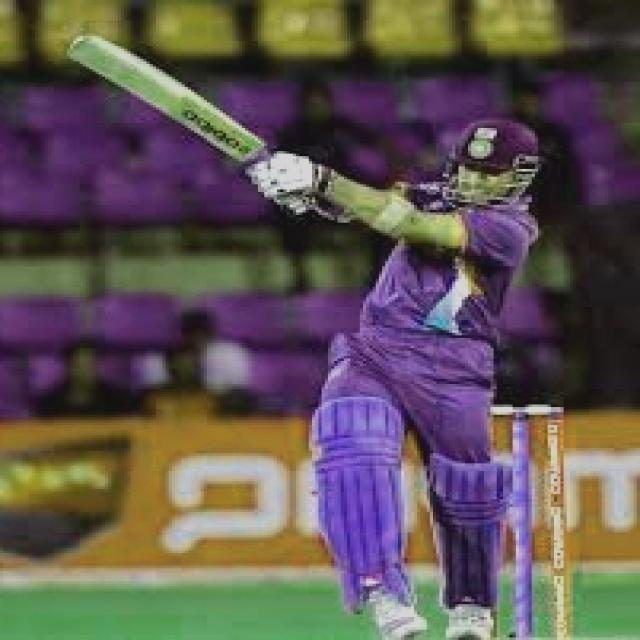toe: (61, 32, 121, 76)
